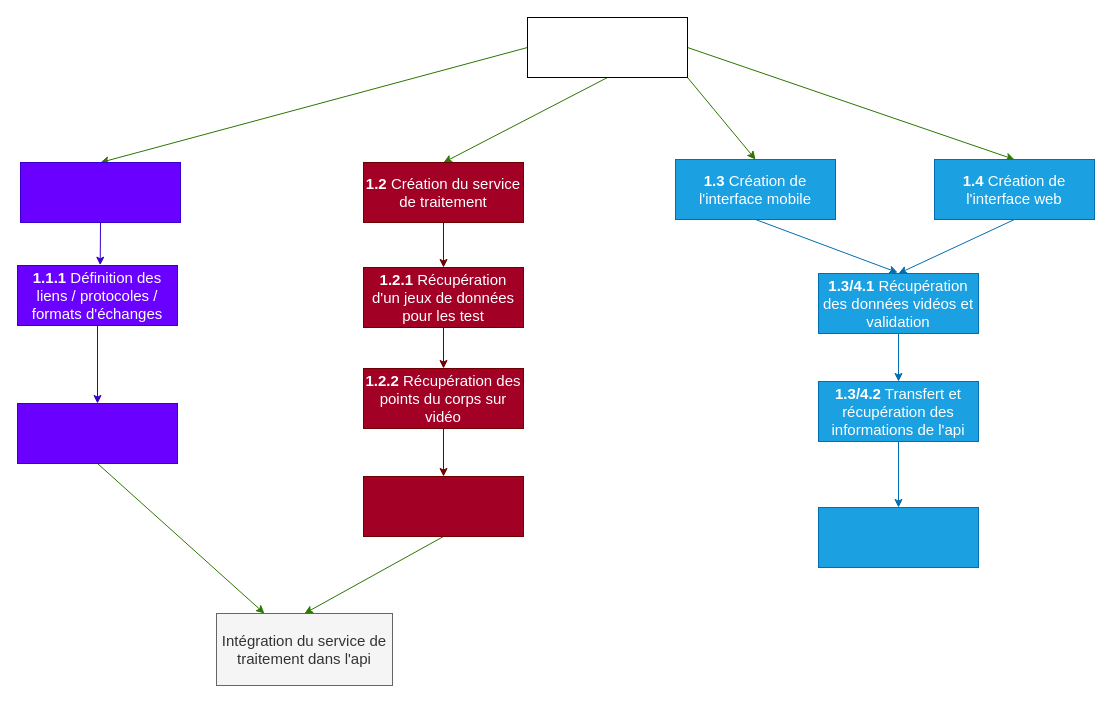
Some shapes in this 1112 by 703 pixel diagram are drawn without their labels. The shapes that lost their labels are listed below. From the top down, each one's centre as x and y in pixels, then its label:
At [607,47]: "1. Produit finalisé".
At [100,192]: "1.1 Création de l'api".
At [97,433]: "1.1.2 Implémentation du protocole d'authentification".
At [443,506]: "1.2.3 Traitement des points et formatage des donnés pour api".
At [898,537]: "1.3/4.3 Affichage des statistiques".
